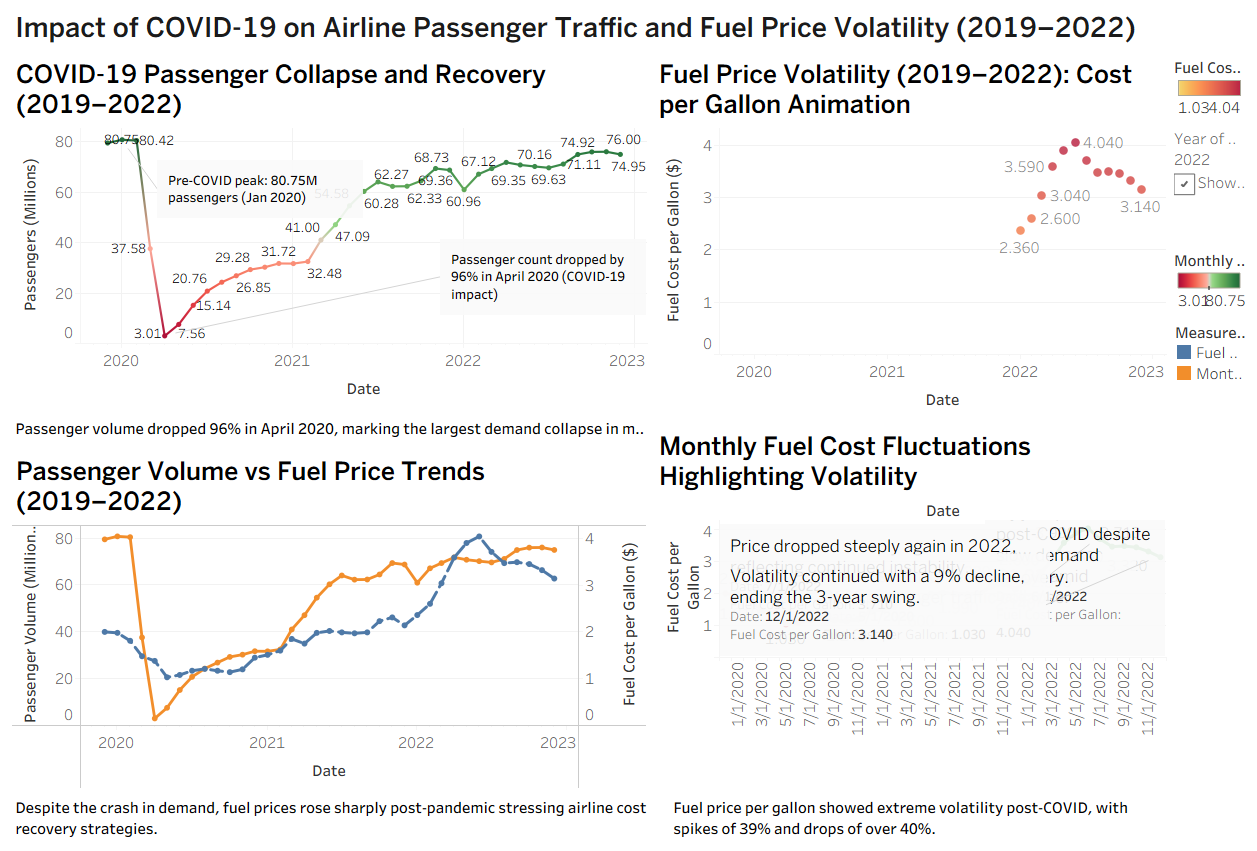

What the dashboard file says about the page in this screenshot:
{"tool":"tableau","page":{"name":"COVID-19 Airline Impact","canvas":[1000,1000],"units":"permille","ordinal":0},"visuals":[{"type":"title","box":[4.8,9.4,990.3,48.2]},{"type":"worksheet","title":"Passenger Traffic Drop","mark":"Automatic","rows":["Monthly_Passengers_M"],"cols":["Date"],"box":[4.8,57.6,521.9,424.6]},{"type":"worksheet","title":"Fuel Price Volatility (2019–2022): Cost per Gallon Animation","mark":"Circle","rows":["Fuel_Cost_per_Gallon"],"cols":["Date"],"box":[526.7,57.6,420.8,436.9]},{"type":"legend","title":"Fuel Price Volatility (2019–2022): Cost per Gallon Animation","param":"[federated.1ncf0so0ue7elv110mbzc05ceaz6].[sum:Fuel_Cost_per_Gallon:qk]","box":[947.5,57.6,47.7,85.8]},{"type":"currpage","title":"Fuel Price Volatility (2019–2022): Cost per Gallon Animation","box":[947.5,143.4,47.7,139.8]},{"type":"legend","title":"Passenger Traffic Drop","param":"[federated.1ncf0so0ue7elv110mbzc05ceaz6].[sum:Monthly_Passengers_M:qk]","box":[947.5,283.2,47.7,85.8]},{"type":"legend","title":"Passenger vs Fuel Cost","param":"[federated.1ncf0so0ue7elv110mbzc05ceaz6].[:Measure Names]","box":[947.5,369,47.7,84.6]},{"type":"text","box":[4.8,482.2,521.9,41.9]},{"type":"worksheet","title":"Monthly Fuel Cost Fluctuations Highlighting Volatility","mark":"Automatic","rows":["Fuel_Cost_per_Gallon"],"cols":["Date"],"box":[526.7,494.5,420.8,436.9]},{"type":"worksheet","title":"Passenger vs Fuel Cost","mark":"Automatic","rows":["Monthly_Passengers_M","Fuel_Cost_per_Gallon"],"cols":["Date"],"box":[4.8,524.1,521.9,407.3]},{"type":"text","box":[4.8,931.4,534,59.2]},{"type":"text","box":[538.8,931.4,408.7,59.2]}]}

Visuals, with their boxes on the dashboard's canvas, which has no fixed pixel size, in thousandths of its width and height (x1, y1, x2, y2). These are canvas units, not pixel positions in the 1257x851 screenshot, which may show the page scaled, cropped or inside an application window:
title: <region>5, 9, 995, 58</region>
"Passenger Traffic Drop" worksheet: <region>5, 58, 527, 482</region>
"Fuel Price Volatility (2019–2022): Cost per Gallon Animation" worksheet (Circle marks): <region>527, 58, 948, 494</region>
"Fuel Price Volatility (2019–2022): Cost per Gallon Animation" legend: <region>948, 58, 995, 143</region>
"Fuel Price Volatility (2019–2022): Cost per Gallon Animation" currpage: <region>948, 143, 995, 283</region>
"Passenger Traffic Drop" legend: <region>948, 283, 995, 369</region>
"Passenger vs Fuel Cost" legend: <region>948, 369, 995, 454</region>
text: <region>5, 482, 527, 524</region>
"Monthly Fuel Cost Fluctuations Highlighting Volatility" worksheet: <region>527, 494, 948, 931</region>
"Passenger vs Fuel Cost" worksheet: <region>5, 524, 527, 931</region>
text: <region>5, 931, 539, 991</region>
text: <region>539, 931, 948, 991</region>
